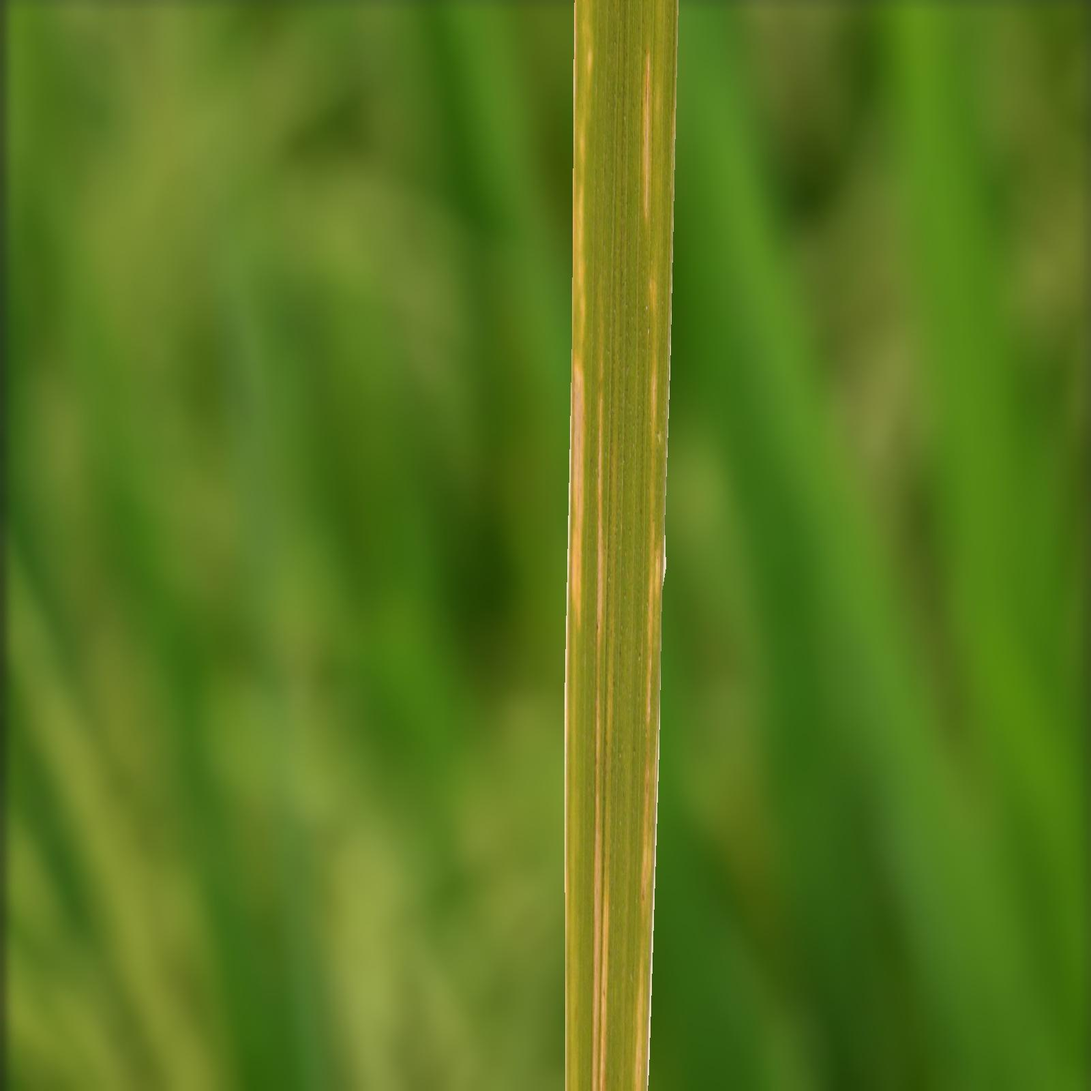BLS: (570, 1, 594, 632), (592, 323, 604, 1090), (599, 640, 616, 1090), (565, 632, 580, 1091), (641, 513, 655, 922), (642, 48, 651, 220), (635, 937, 645, 1090), (650, 349, 657, 513), (649, 277, 657, 348), (654, 73, 662, 115), (655, 547, 661, 600)
LEAF: (565, 0, 678, 1090)
